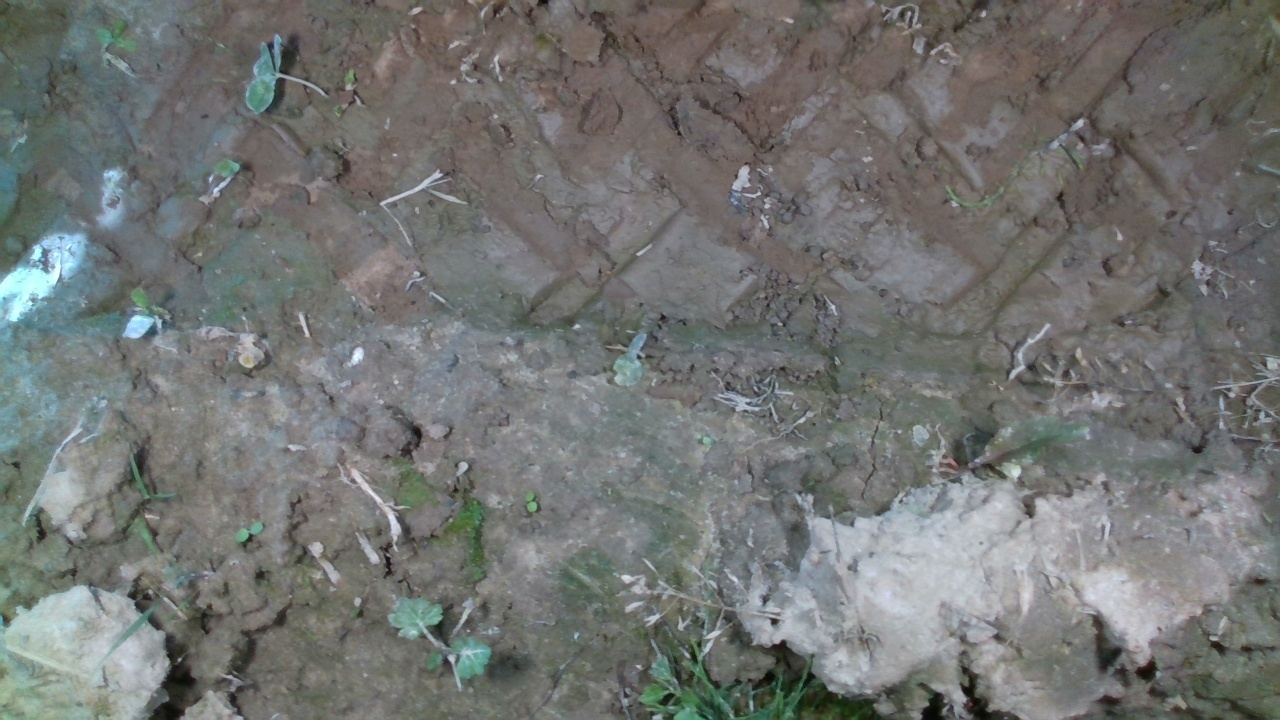weed: (233, 520, 263, 543), (521, 487, 539, 514)
